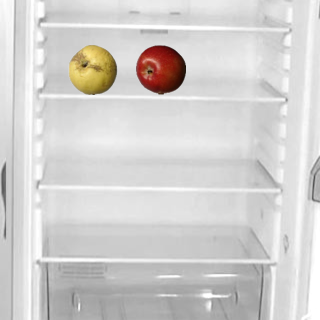Apple Braeburn: (135, 44, 185, 94)
Apple Golden 1: (67, 44, 117, 94)
